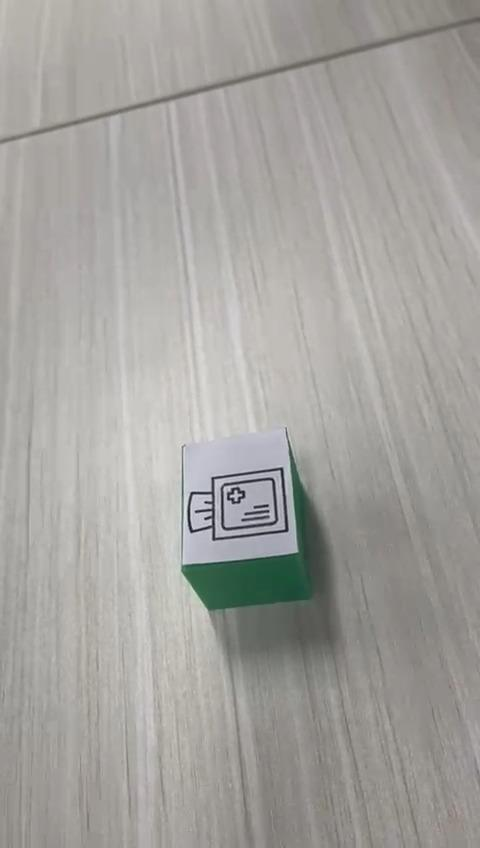Gauze: (178, 425, 313, 612)
